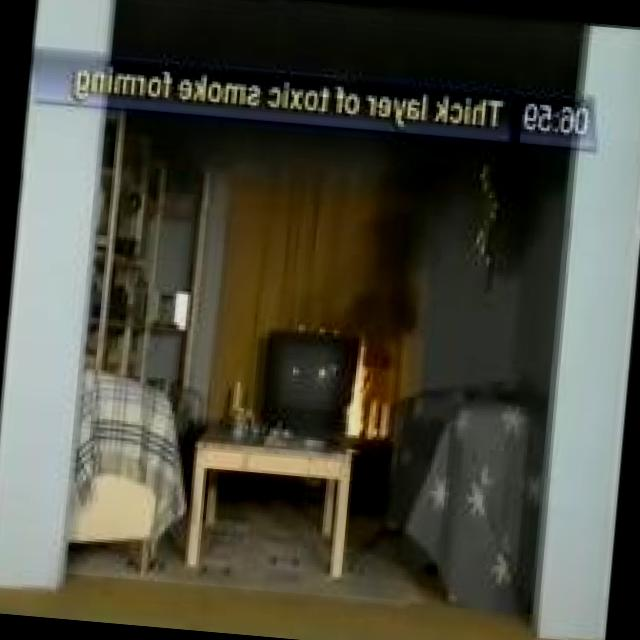fire: (336, 318, 409, 435)
